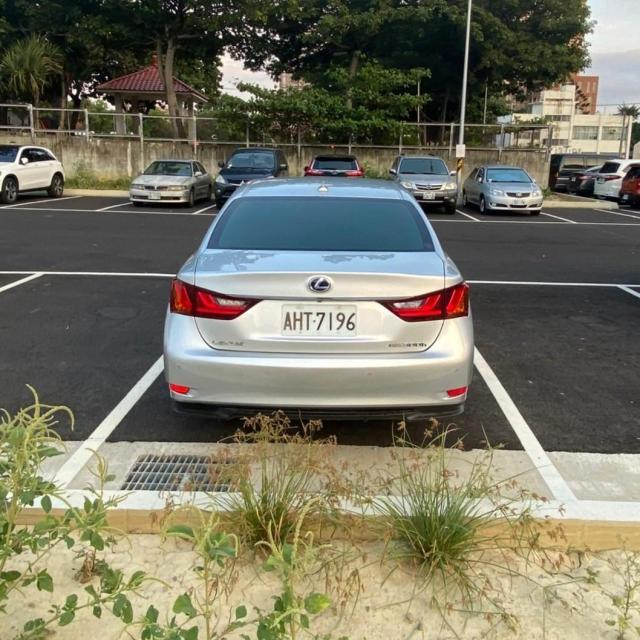W: (278, 300, 359, 340)
